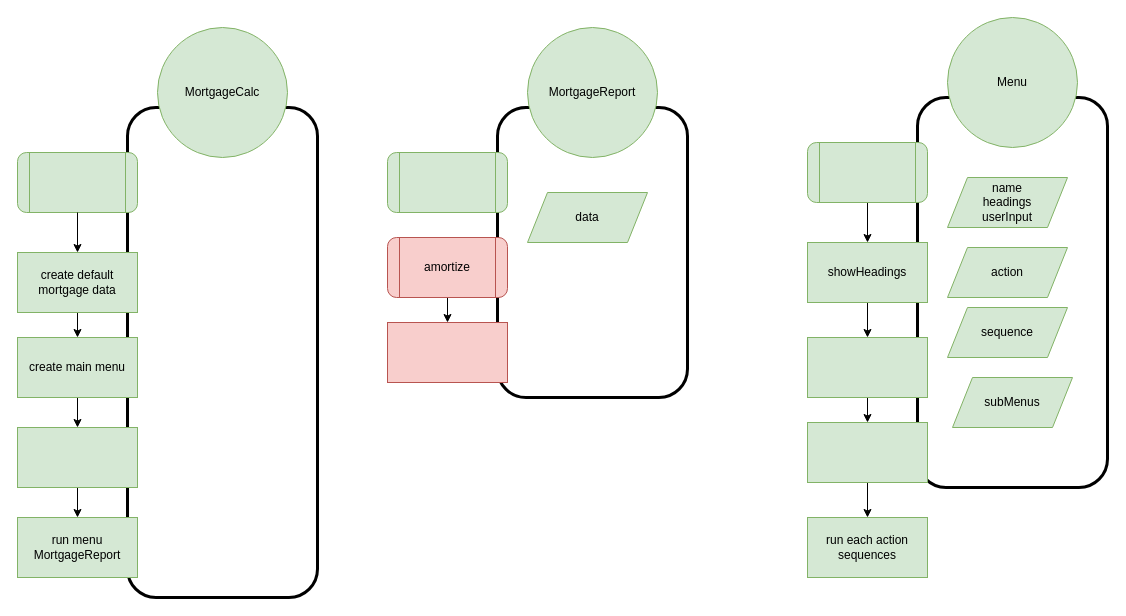
The diagram is 1126 pixels wide and 616 high, and some of its shapes have lost their labels. Here are the shapes that lost their labels. From the top down, the centre of each, then its label:
At pixel 77 182: "main".
At pixel 447 182: "execute".
At pixel 867 172: "run".
At pixel 447 352: "return a list of data".
At pixel 867 367: "list sub menus".
At pixel 77 457: "create sub menus".
At pixel 867 452: "read input".
